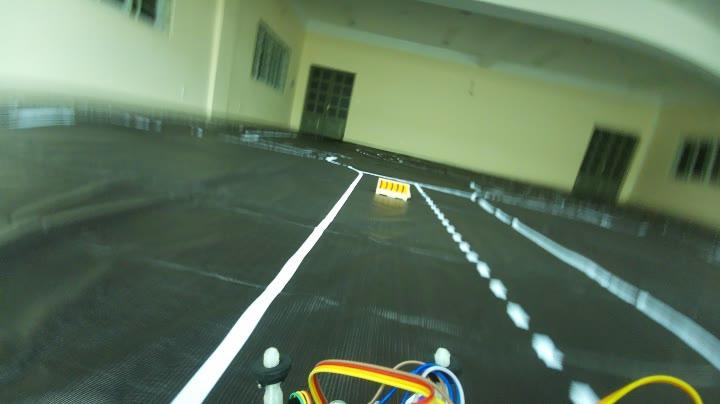roadblock: (370, 169, 416, 208)
